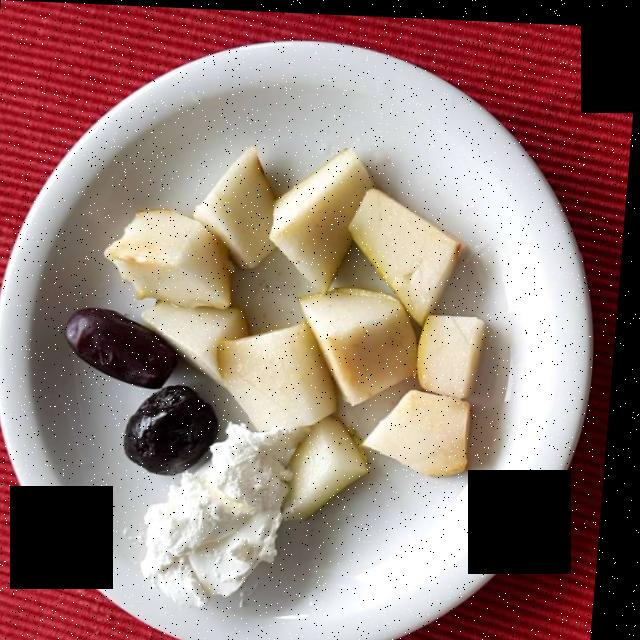black-olives: (72, 299, 225, 478)
cream-cheese: (154, 421, 298, 613)
pear: (117, 155, 490, 524)
